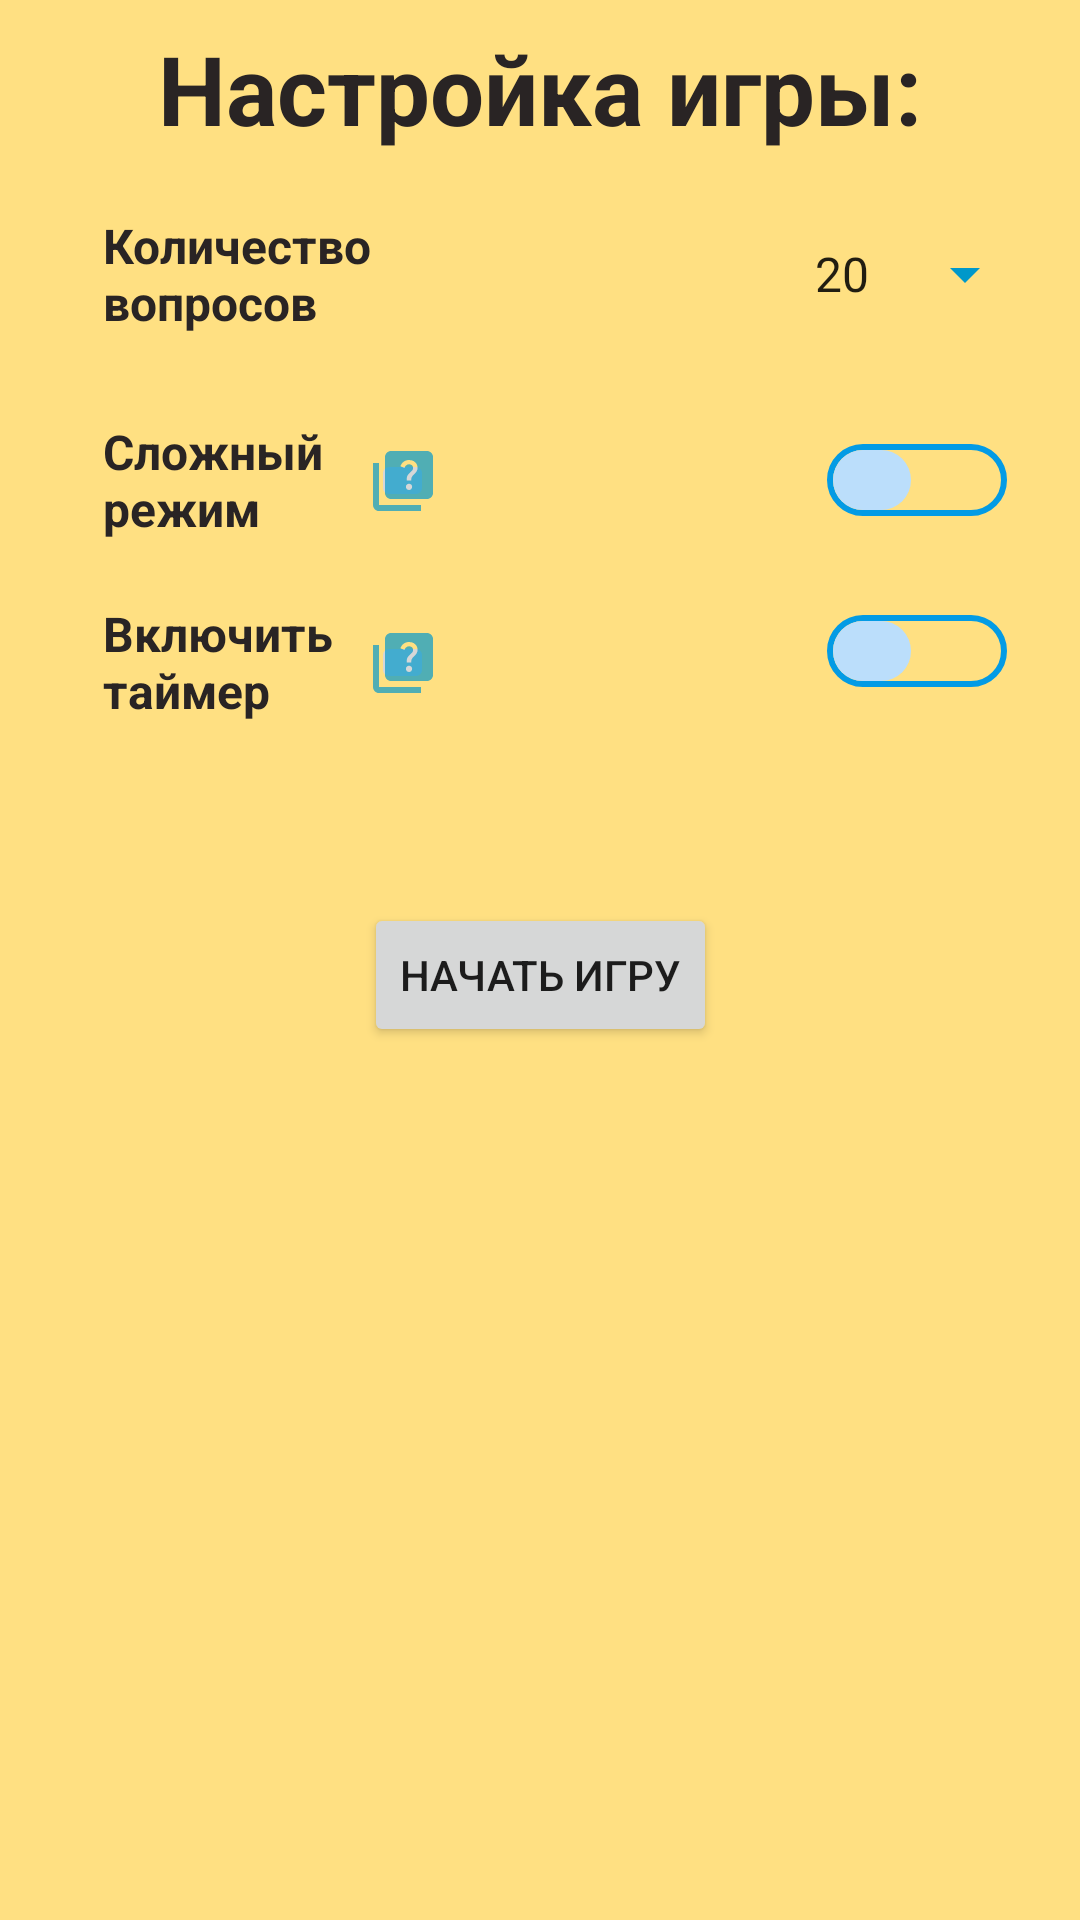

Icon click points for this 1080 x 1920 phone screenshot, format (x,y):
info hard mode: (403,481)
info timer mode: (403,663)
